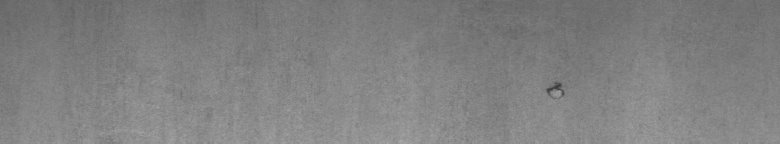fi: (545, 76, 565, 100)
